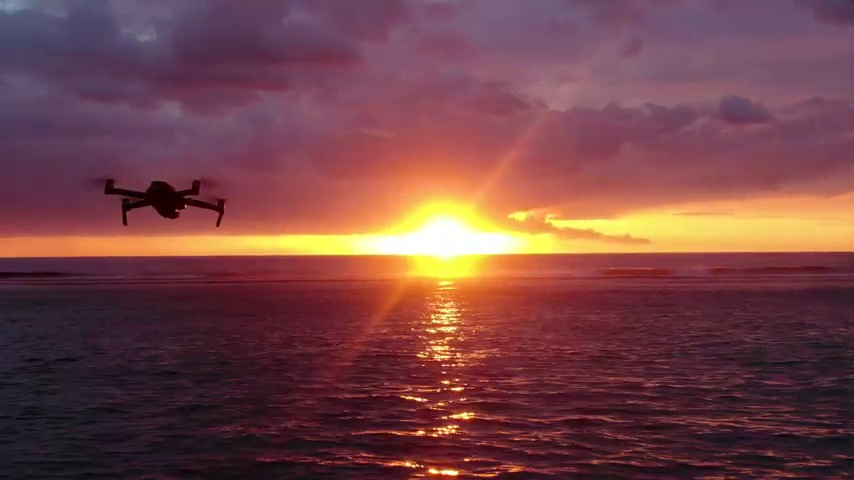drone: (101, 175, 227, 227)
